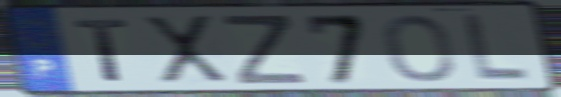7: (304, 12, 367, 86)
L: (461, 11, 531, 83)
O: (381, 12, 458, 84)
T: (71, 17, 133, 84)
X: (140, 14, 232, 87)
Z: (219, 13, 309, 86)
